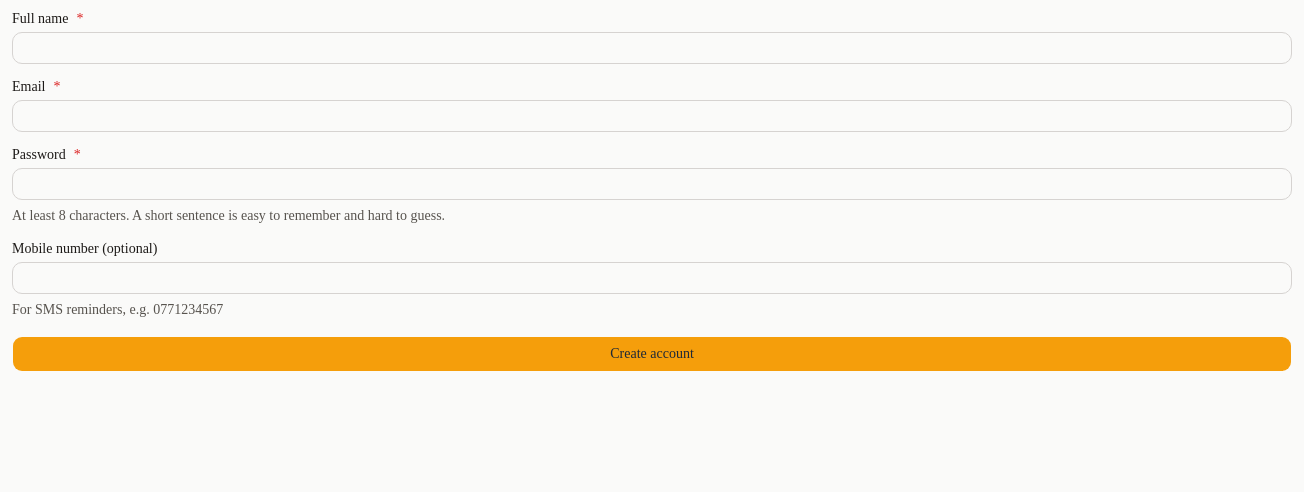
Test: RegisterForm › checks the input before sending anything
This screenshot has width=1304, height=492.
Type "not-an-email" into the field labelled "Email *" at [652, 116], box left=12, top=100, right=1292, bottom=132
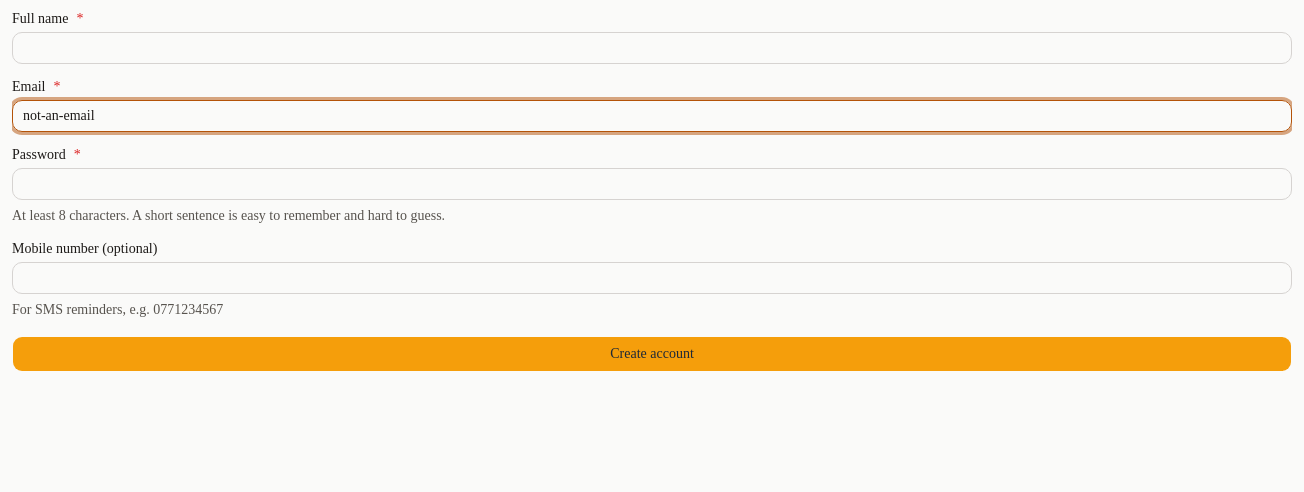
Type "short" into the password field labelled "Password *" at [652, 184], box left=12, top=168, right=1292, bottom=200
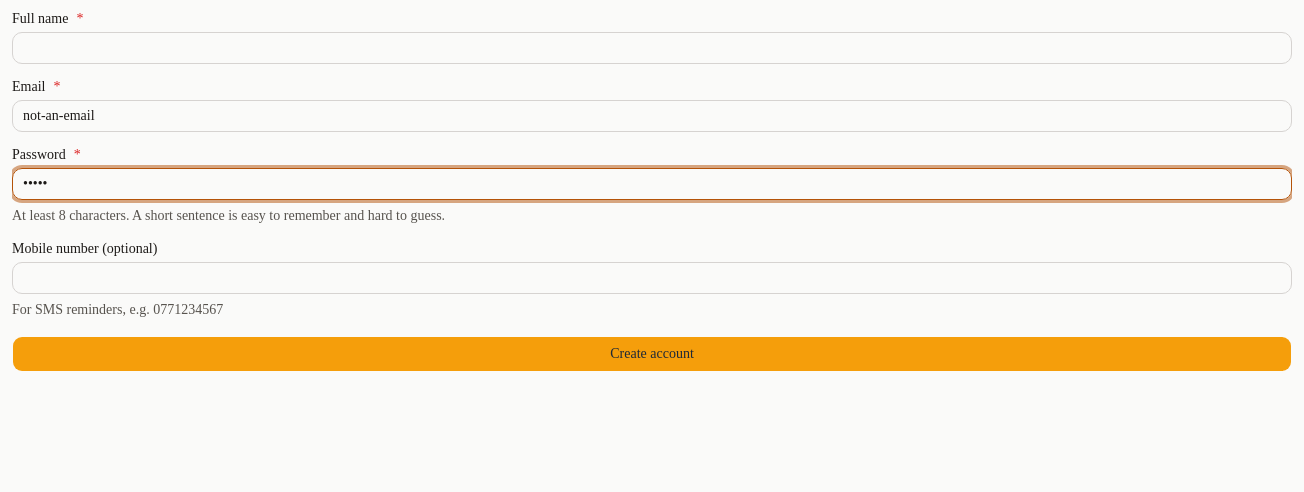
Type "12345" into the field labelled "Mobile number (optional)" at [652, 278], box left=12, top=262, right=1292, bottom=294
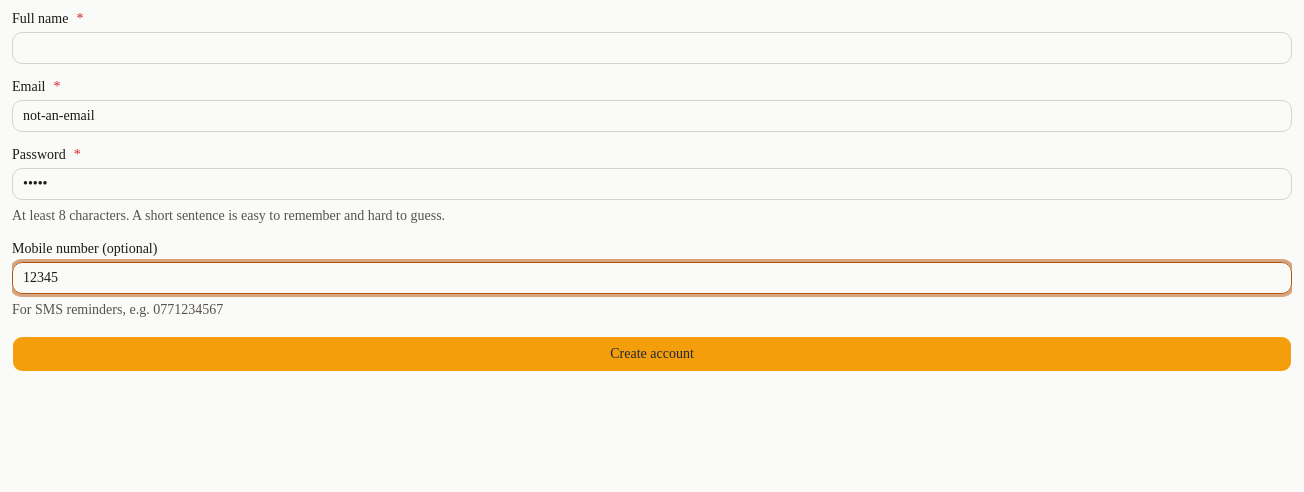
Click the button "Create account" at [652, 354], box left=12, top=336, right=1292, bottom=372
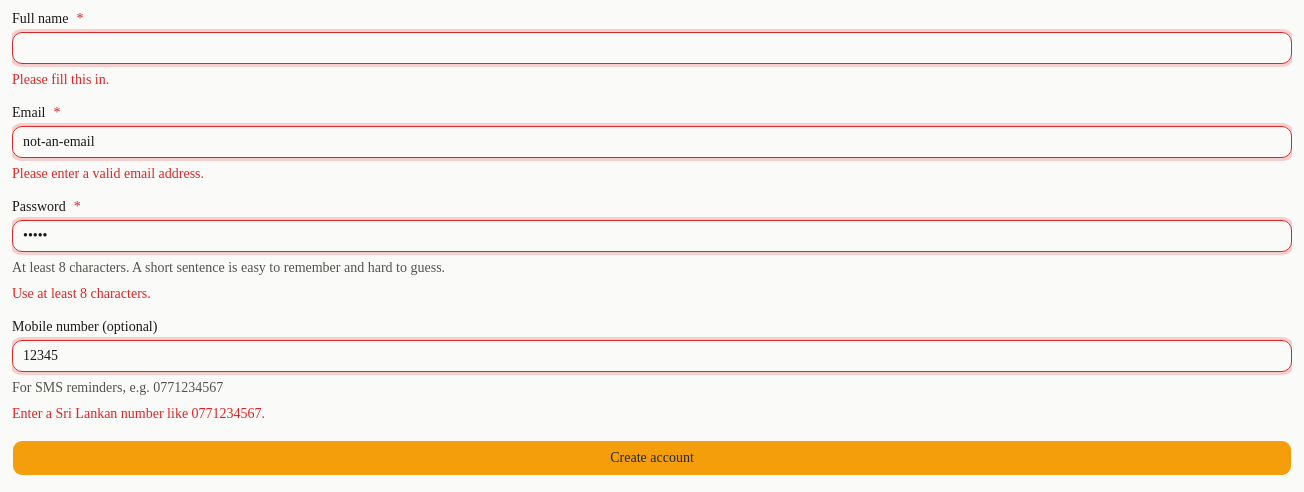
Result: the text "Please enter a valid email address." is shown at left=12, top=166, right=204, bottom=181
Result: the text "Use at least 8 characters." is shown at left=12, top=286, right=151, bottom=301
Result: the text "Enter a Sri Lankan number like 0771234567." is shown at left=12, top=406, right=265, bottom=421
